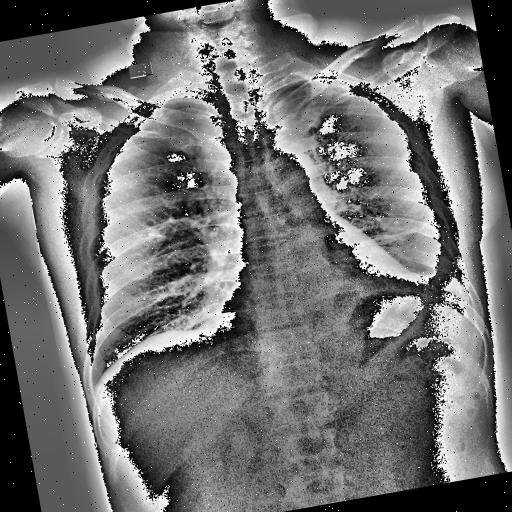0- Aortic enlargement: (269, 147, 327, 199), (269, 146, 315, 187)
10- Pleural effusion: (382, 223, 464, 294), (414, 218, 472, 308), (406, 226, 466, 298)
13- Pulmonary fibrosis: (348, 214, 442, 250), (346, 214, 444, 248), (352, 216, 442, 250)
3- Cardiomegaly: (209, 234, 427, 334)
